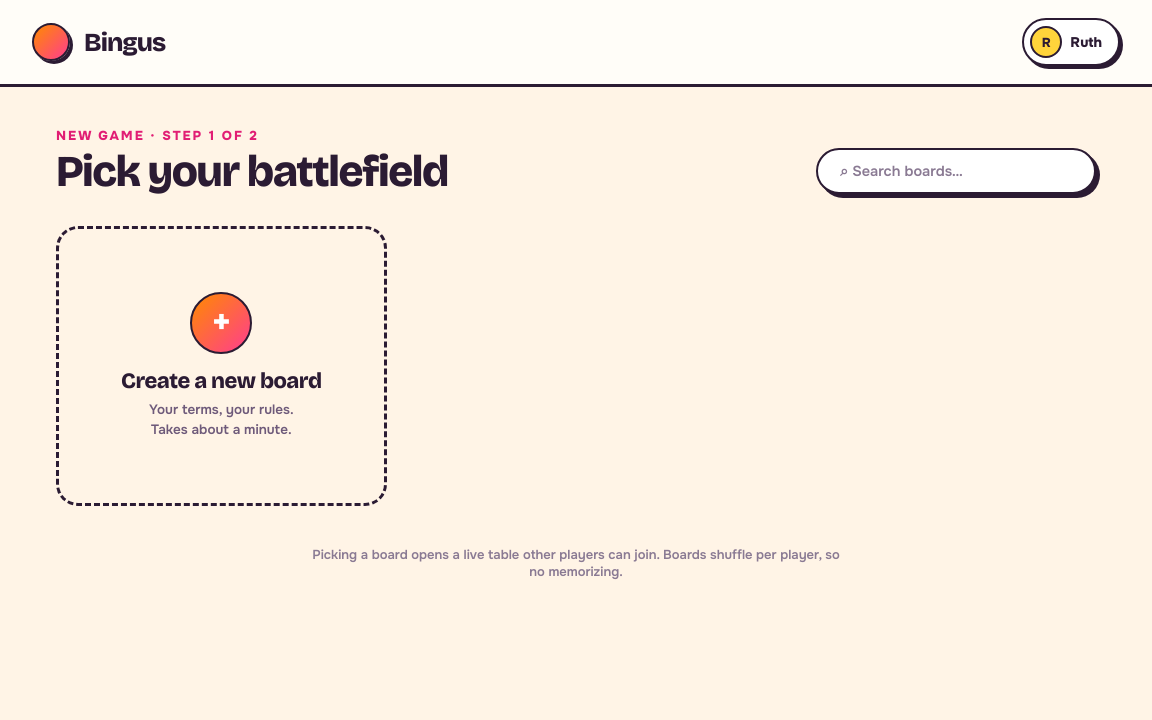
header wordmark › links back to the home screen from another route
The image size is (1152, 720).
Expected: the heading "Pick your battlefield" is shown, [56,150,448,194]
Click the link "Bingus" at {"x": 99, "y": 42}, box [32,23,165,61]
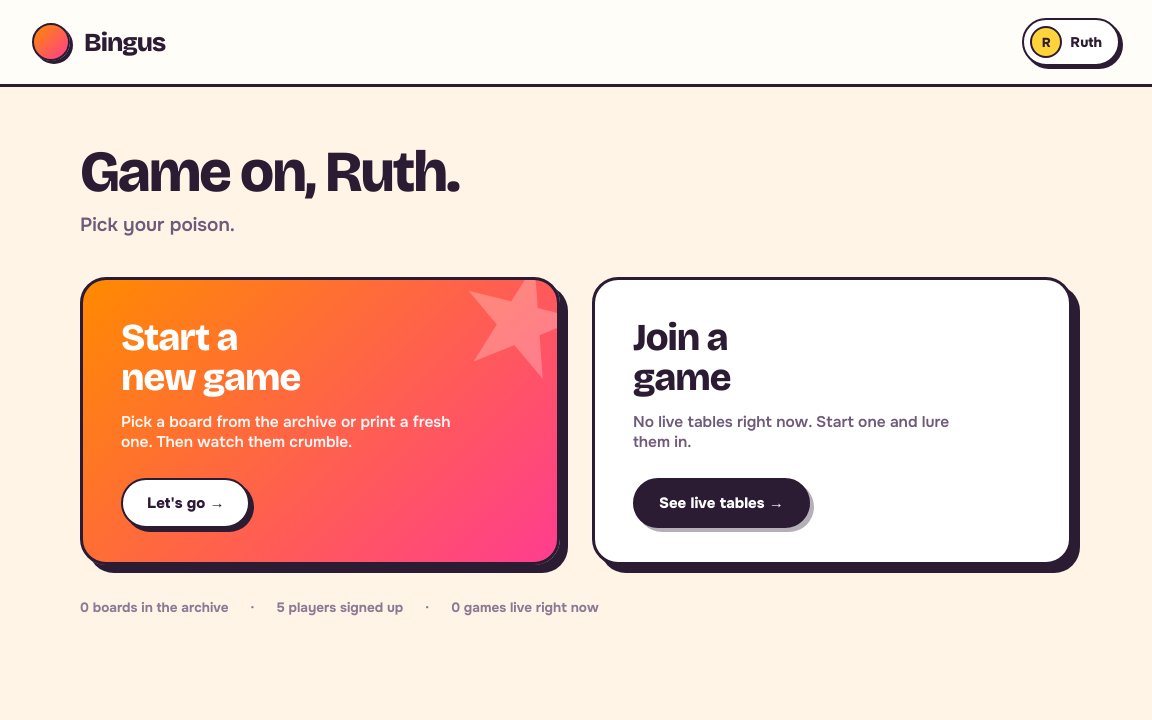
Now the heading "Game on, Ruth." is shown, box [80,137,459,207]
